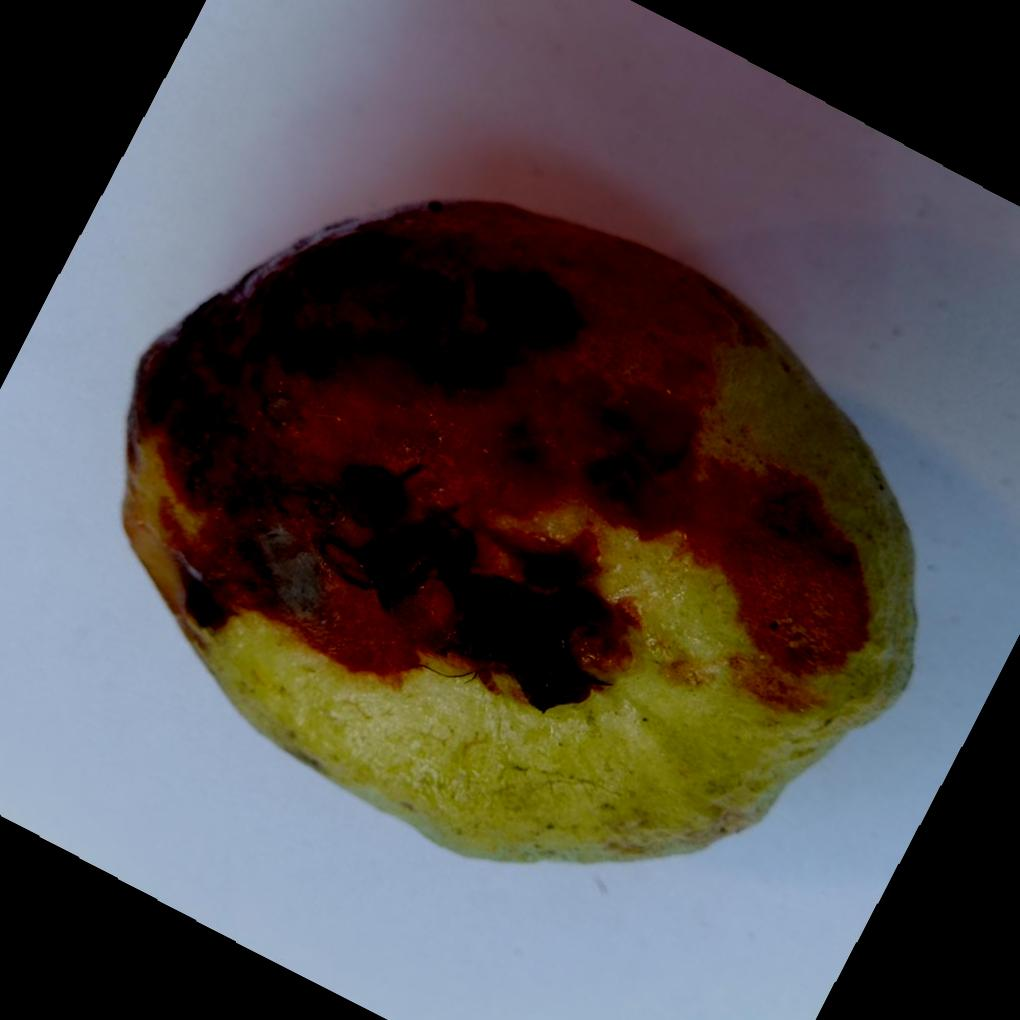FreshOrange: (121, 198, 922, 869)
